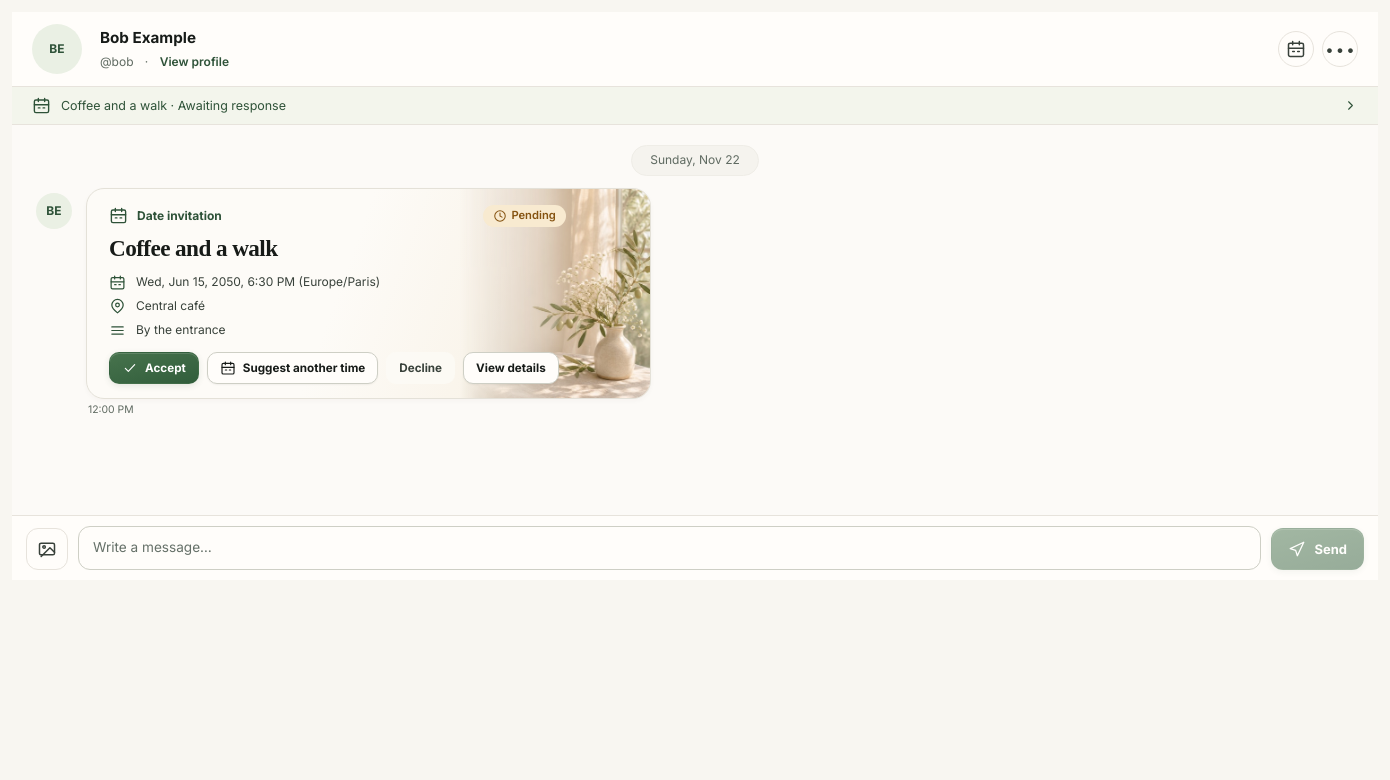
Test: inline proposal accept uses the correct current version and workflow
Click the button "Accept": (154, 368) 109,352 -> 199,384
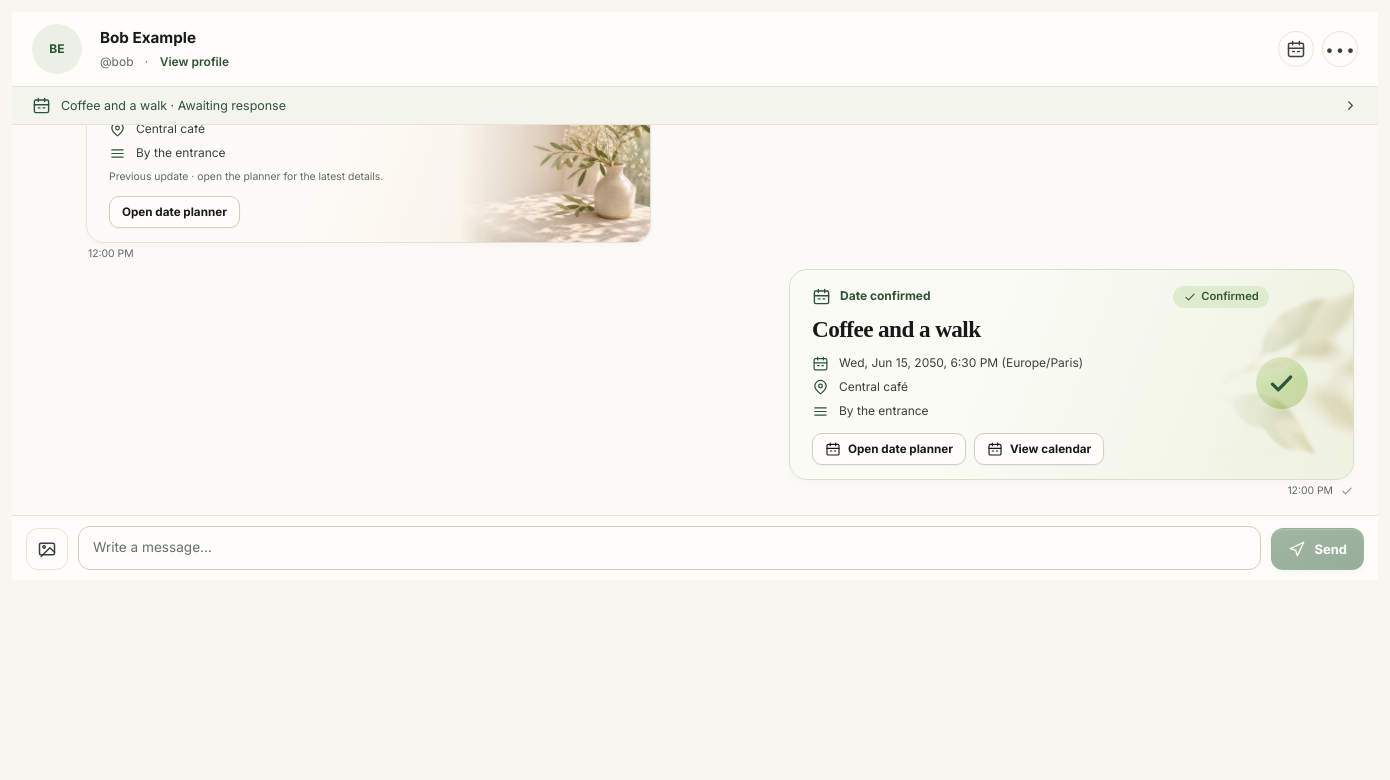
Now the button "Accept" is gone
Now the link "View calendar" is shown, box 974,433 -> 1104,465
